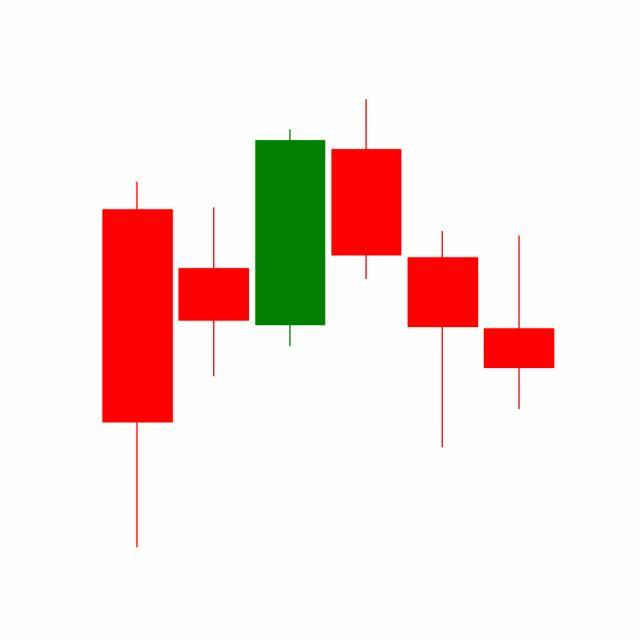Three Inside Up-Down: (252, 99, 482, 453)
